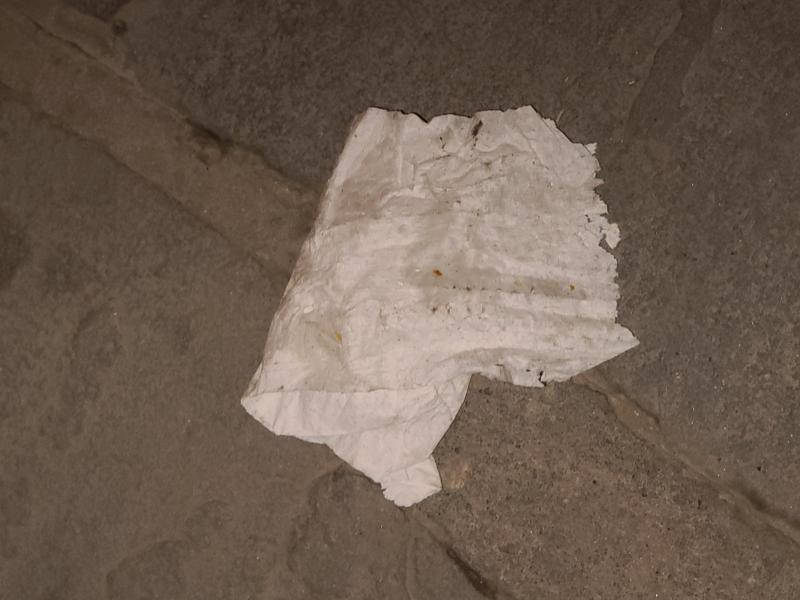papel: (239, 107, 639, 510)
